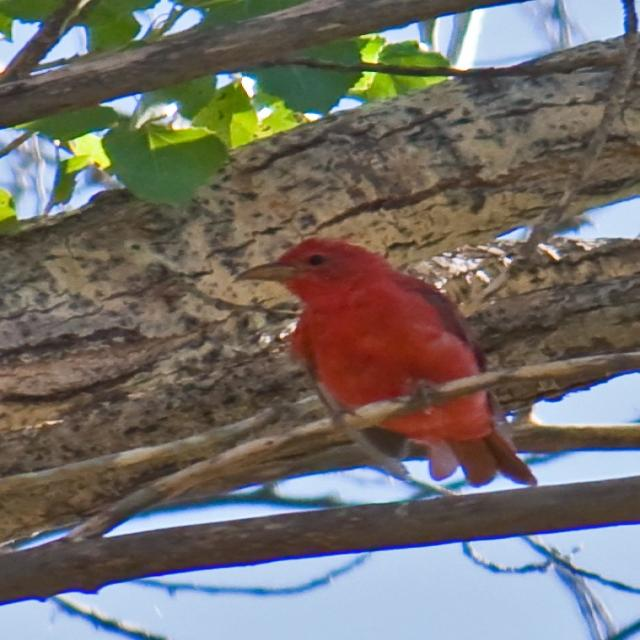bird: (232, 233, 554, 491)
